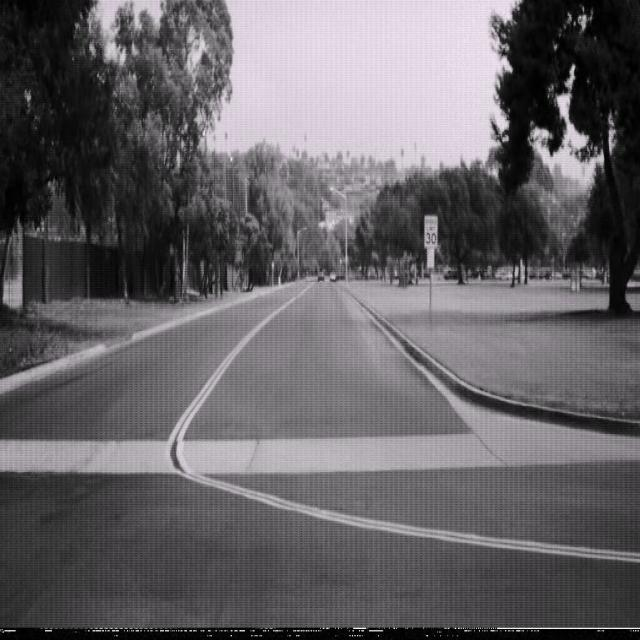speedLimit30: (423, 213, 438, 248)
